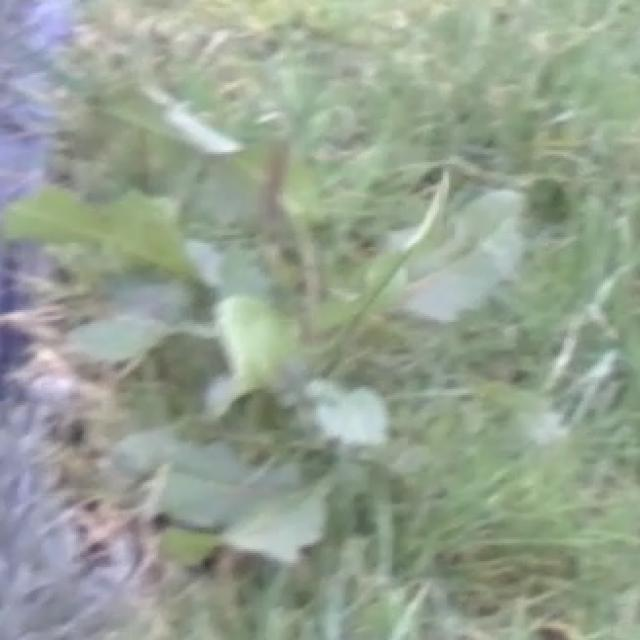organic waste: (48, 52, 575, 609)
